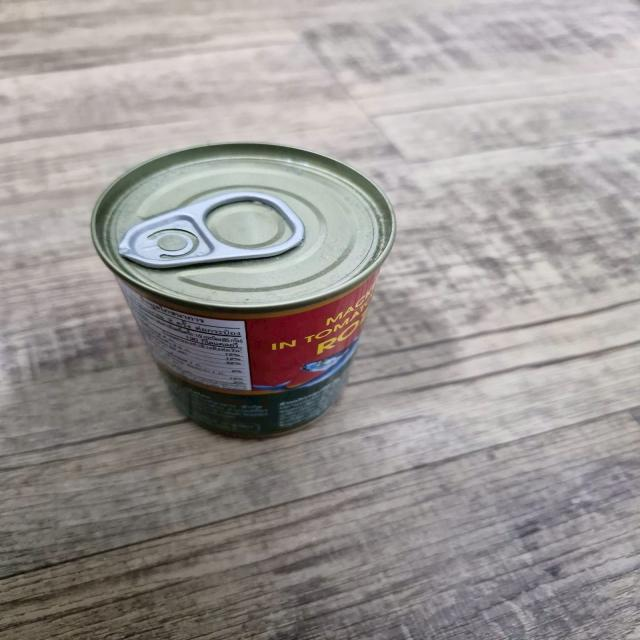can: (96, 144, 386, 432)
